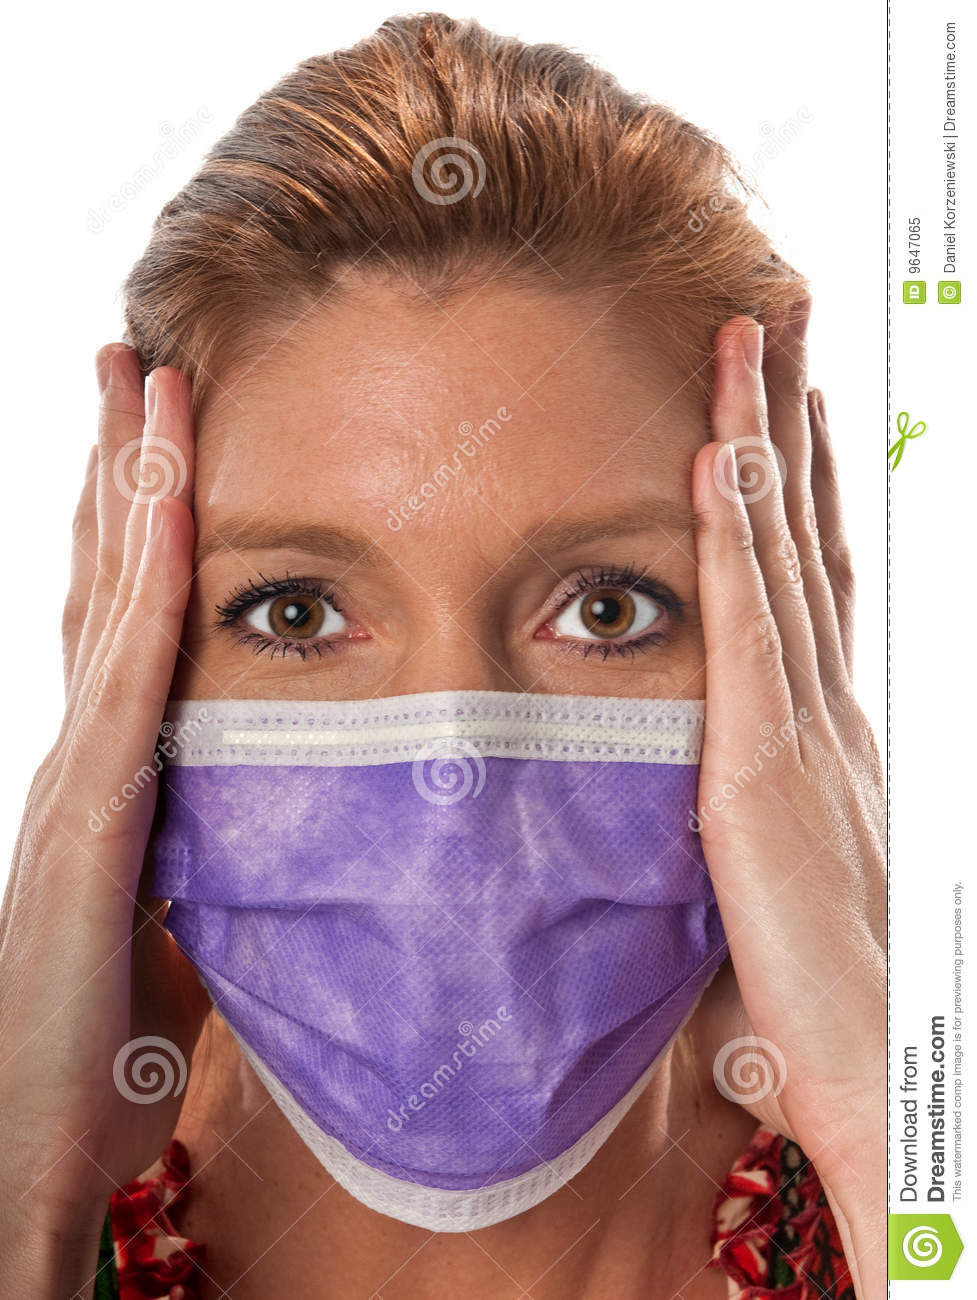mask: (149, 699, 733, 1235)
